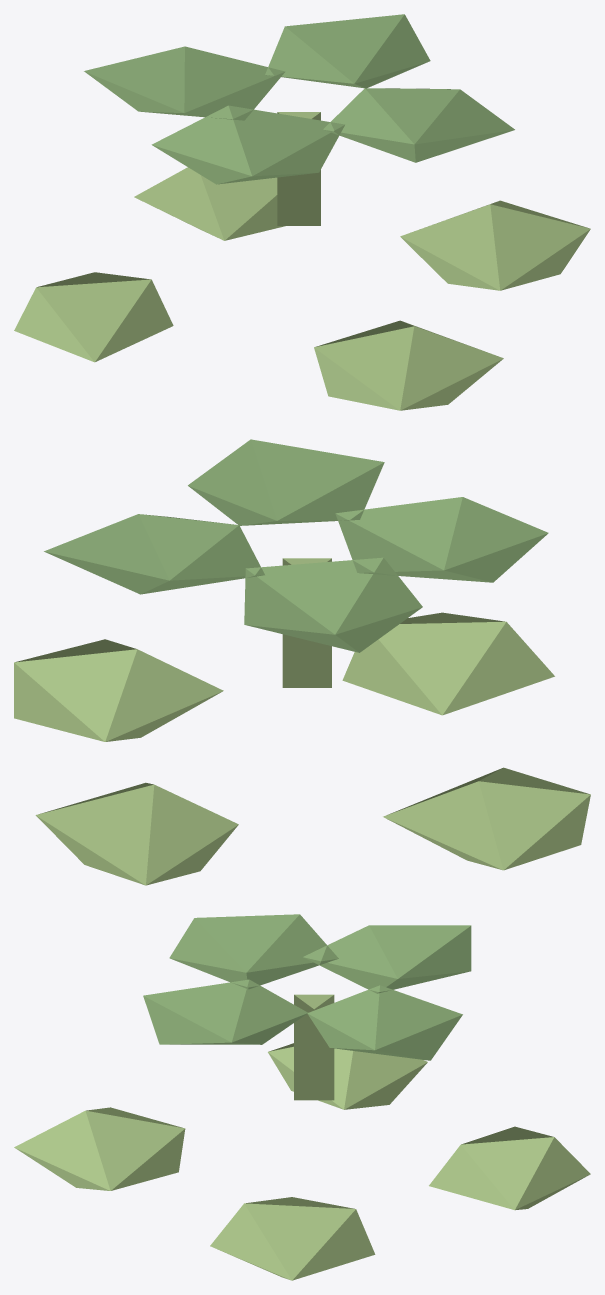
File: cao.dixue@subadult__spring.glb
3 views of the same model, one above another, from view 1: azimuth 30°, elevation 25°; view 2: azimuth 150°, elevation 25°; view 3: azimuth 270°, elevation 25° (orthographic). The views are drawn at different scales.
Parts seen in each view (by area): view 1: cao.dixue@subadult__spring; view 2: cao.dixue@subadult__spring; view 3: cao.dixue@subadult__spring.
Part boxes in pixels (x1=…): cao.dixue@subadult__spring: x1=14, y1=14, x2=590, y2=410; cao.dixue@subadult__spring: x1=14, y1=439, x2=590, y2=885; cao.dixue@subadult__spring: x1=14, y1=914, x2=590, y2=1280.
Size of the model in its own units: 0.489 by 0.2218 by 0.4906.
